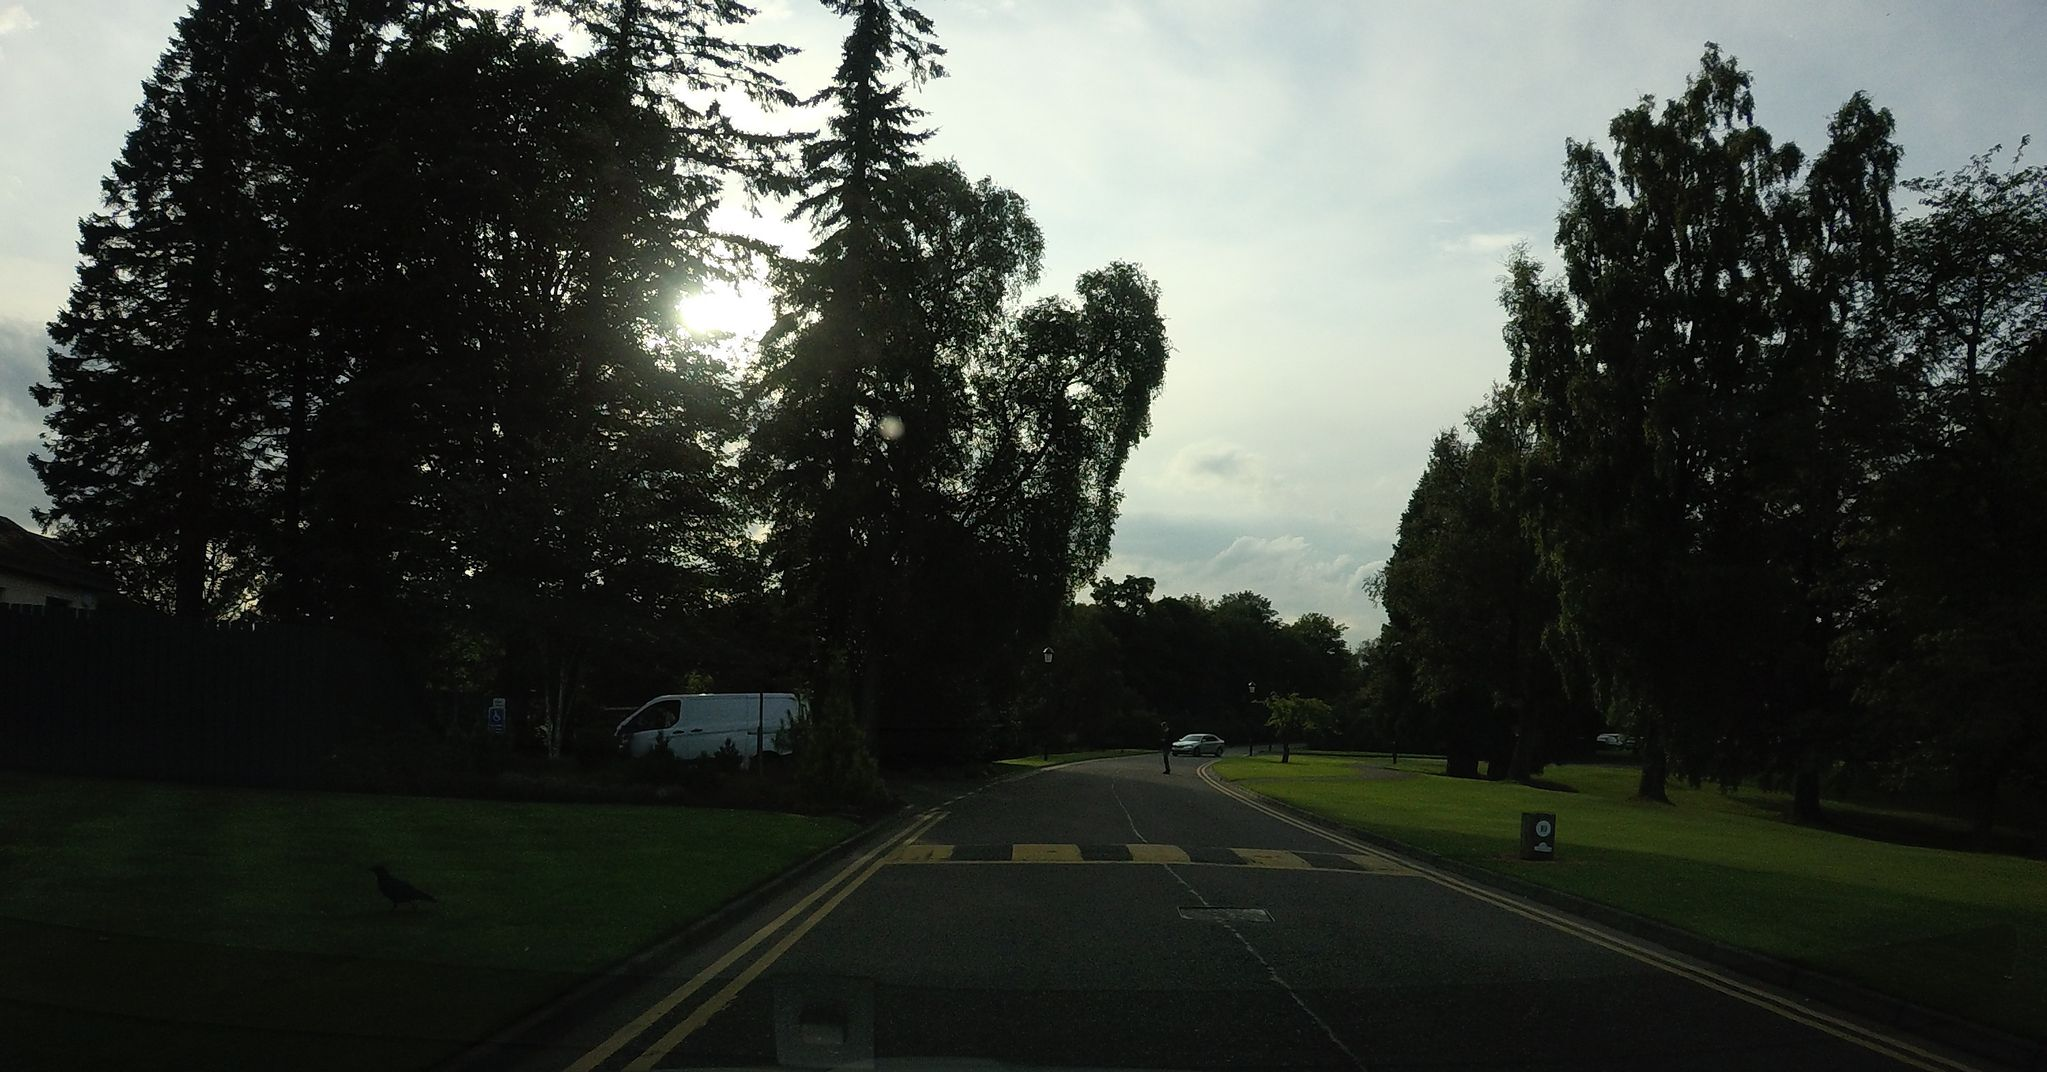car: (611, 692, 810, 767), (1171, 734, 1224, 757)
